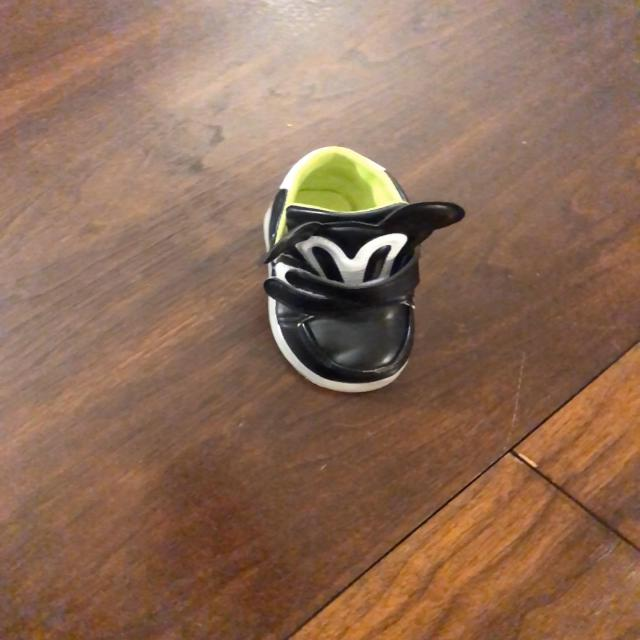shoe: (261, 148, 466, 396)
